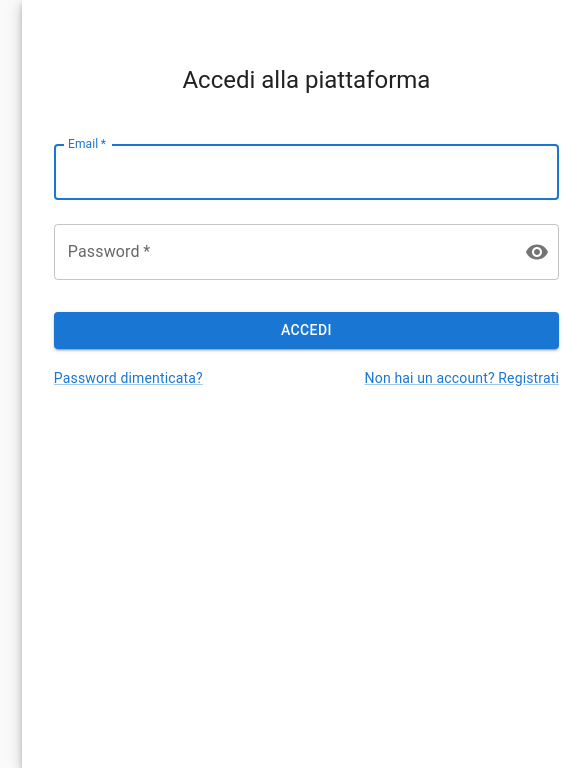
Test: LoginForm Component › validates form inputs correctly
// Clicca sul pulsante di accesso senza compilare campi
Click the button "Accedi" at (306, 330), box [54,312,559,348]
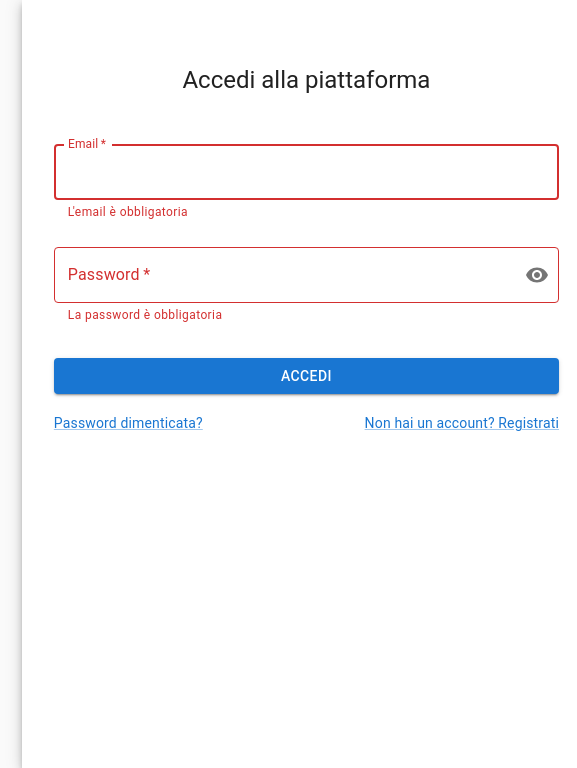
Check: the text "L'email è obbligatoria" is shown, box [68,205,188,219]
Check: the text "La password è obbligatoria" is shown, box [68,308,222,322]
// Inserisci email non valida
Type "invalid-email" into the field labelled "Email *" at (306, 172), box [54,144,559,200]
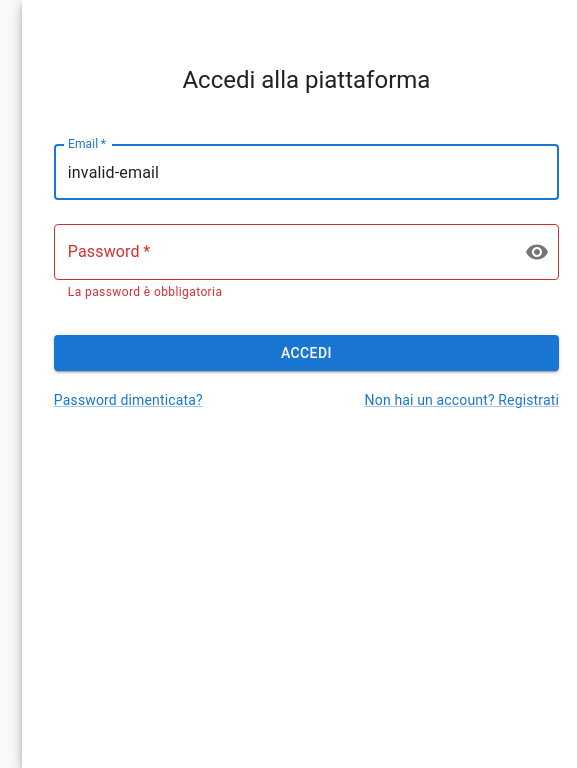
// Clicca di nuovo sul pulsante
Click the button "Accedi" at (306, 353), box [54,335,559,371]
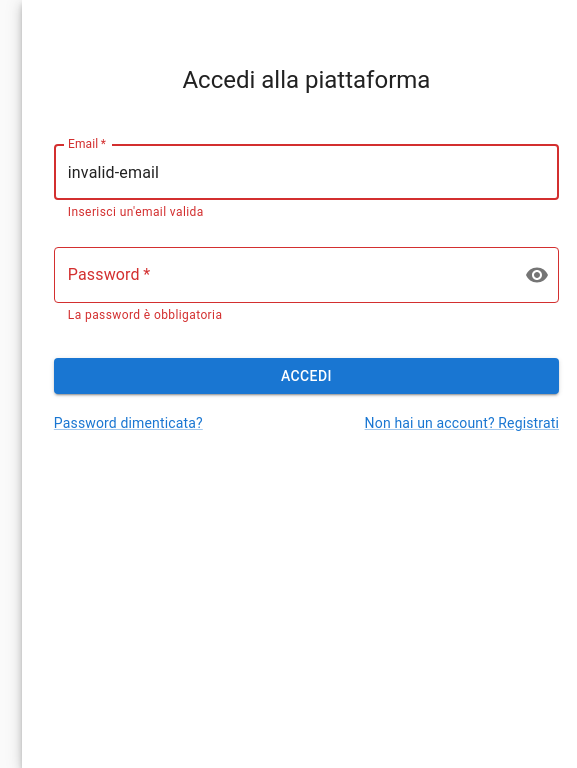
Check: the text "Inserisci un'email valida" is shown, box [68,205,204,219]
